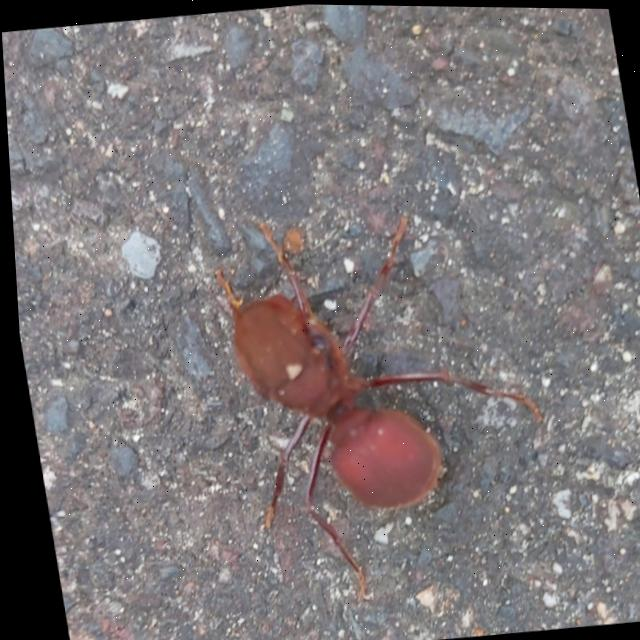Dead-Female-Dealate: (202, 194, 564, 609)
